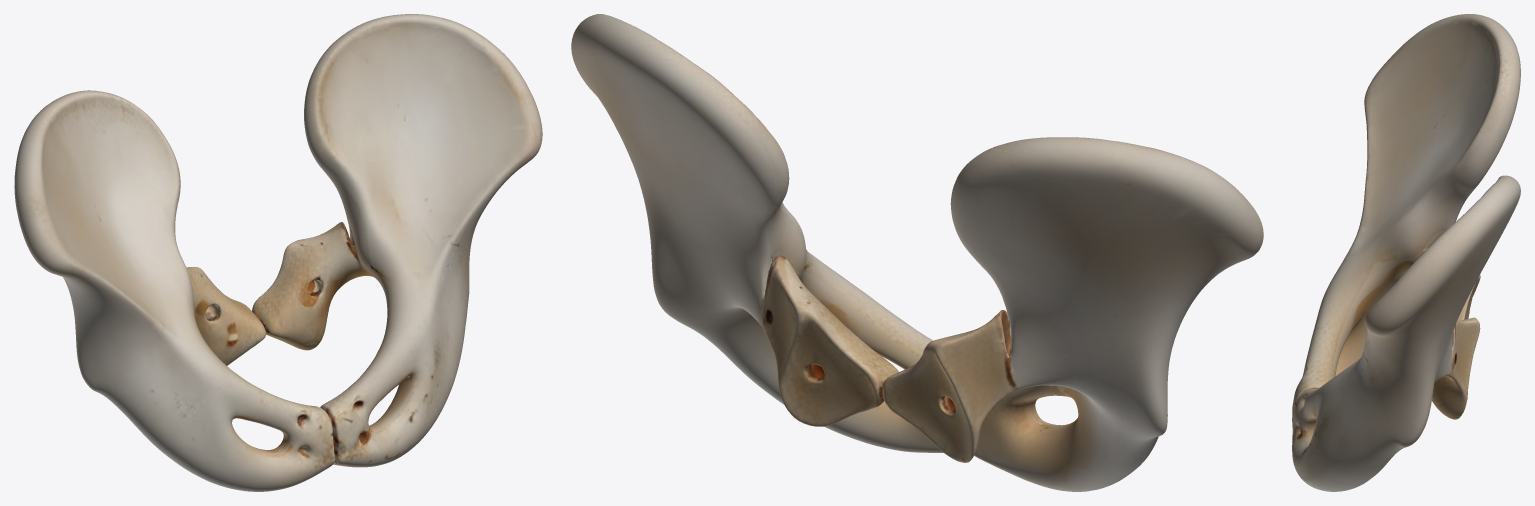
The model's file is dog-pelvis.glb.
3 views of the same model, side by side, from view 1: azimuth 30°, elevation 25°; view 2: azimuth 150°, elevation 25°; view 3: azimuth 270°, elevation 25° (orthographic). The views are drawn at different scales.
Visible parts, largest first — view 1: model; view 2: model; view 3: model.
Boxes of the visible parts, <box> form: model: <box>14,14,542,491</box>; model: <box>571,14,1263,491</box>; model: <box>1292,14,1520,491</box>.
Size of the model in its own units: 1.9 by 1.26 by 0.749.
1 material, 1 textured.
